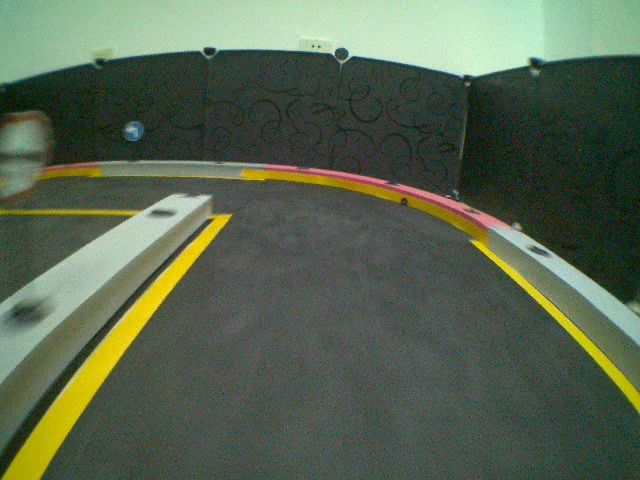turn: (122, 121, 144, 142)
